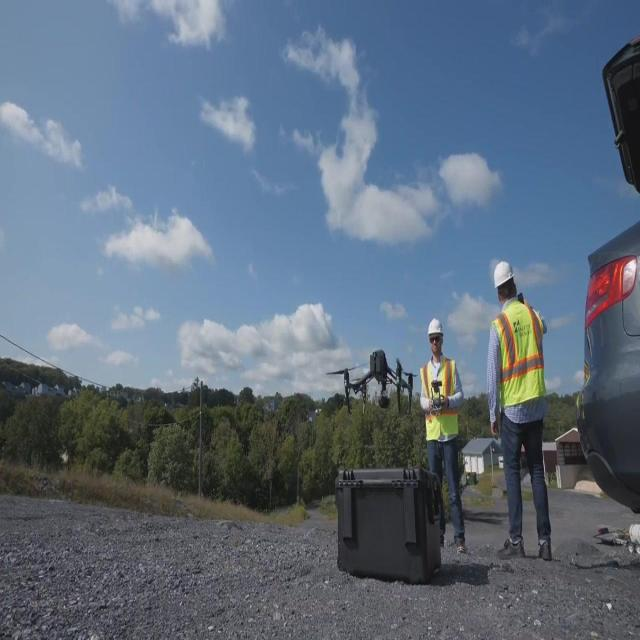Vest: (488, 301, 546, 409), (418, 358, 458, 438)
